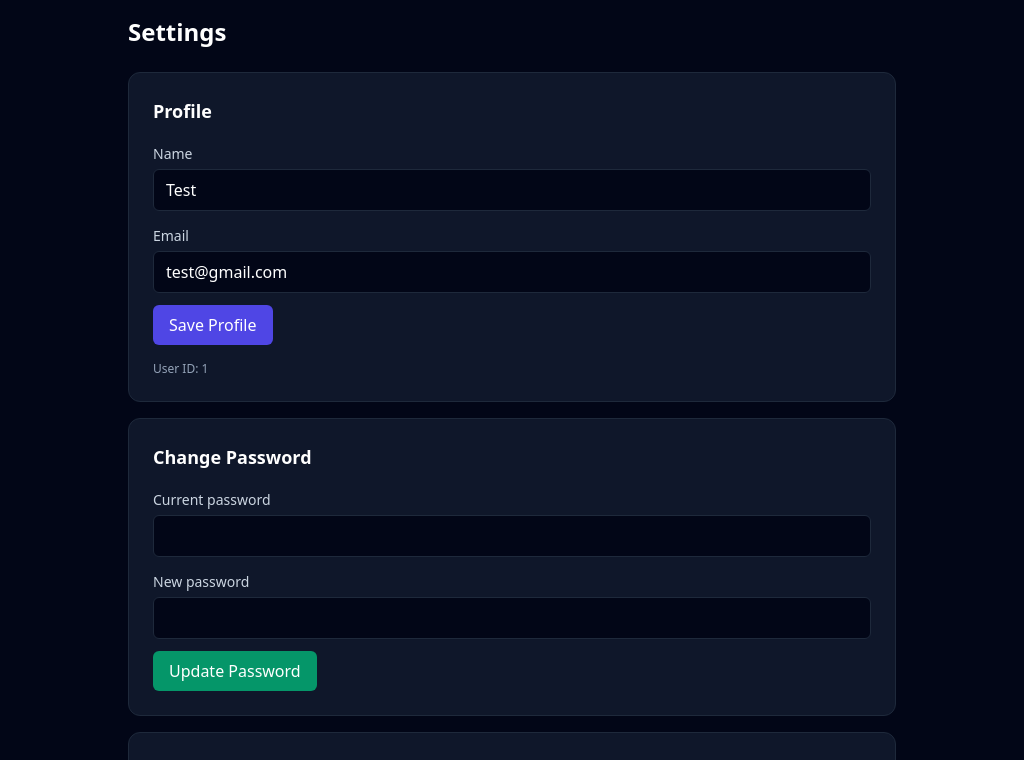
it: Settings page › TEST 13.5 — Weak new password blocked client-side
Expected: the form named "Change password form" is shown, [153, 487, 871, 691]
Type "SecureP@ss1" into the password field labelled "Current password". click: (512, 536)
box: [153, 515, 871, 557]
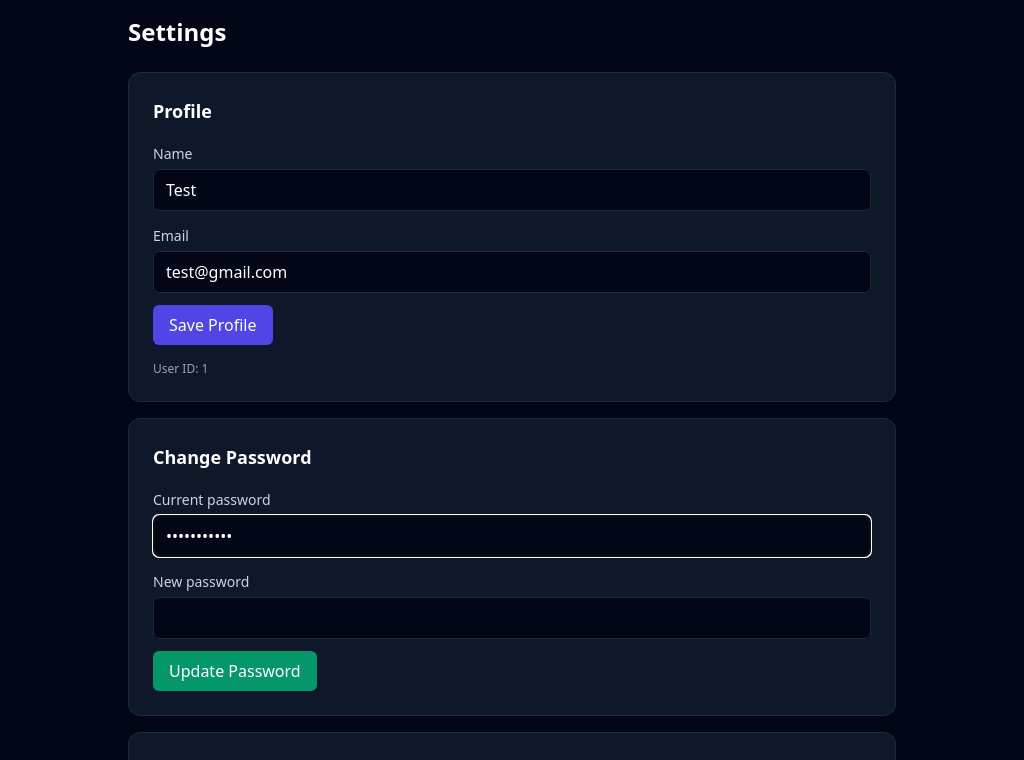
Type "weak" into the password field labelled "New password". click: (512, 618)
box: [153, 597, 871, 639]
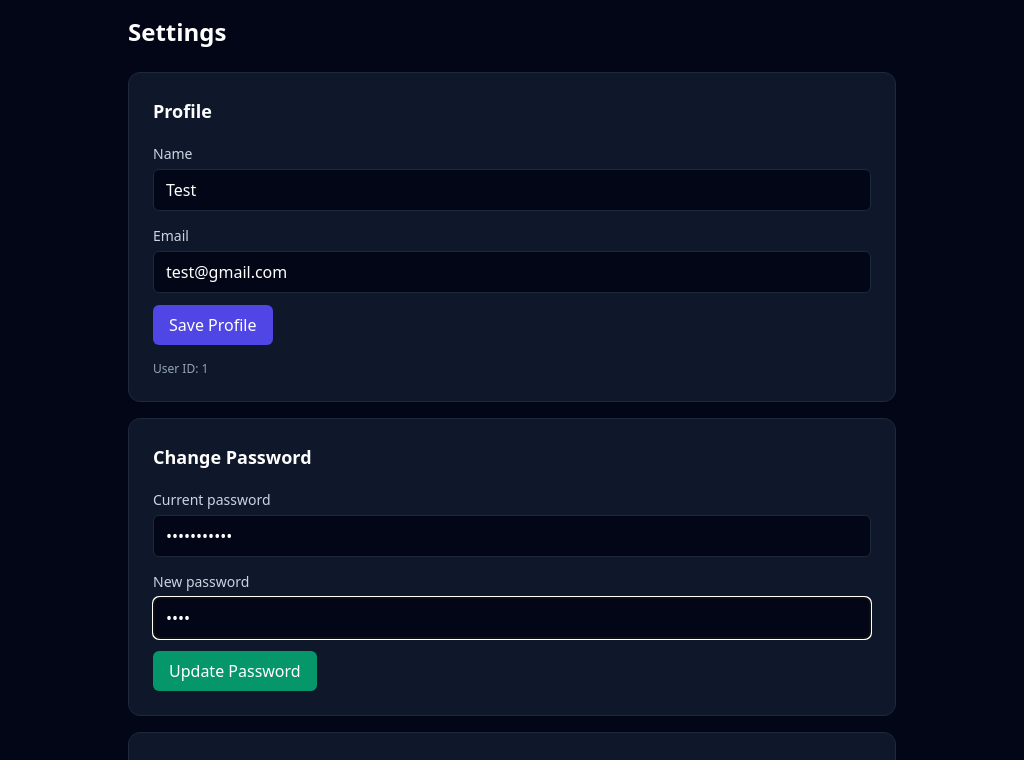
Click the button "Update Password". click: (235, 671)
box: [153, 651, 317, 691]
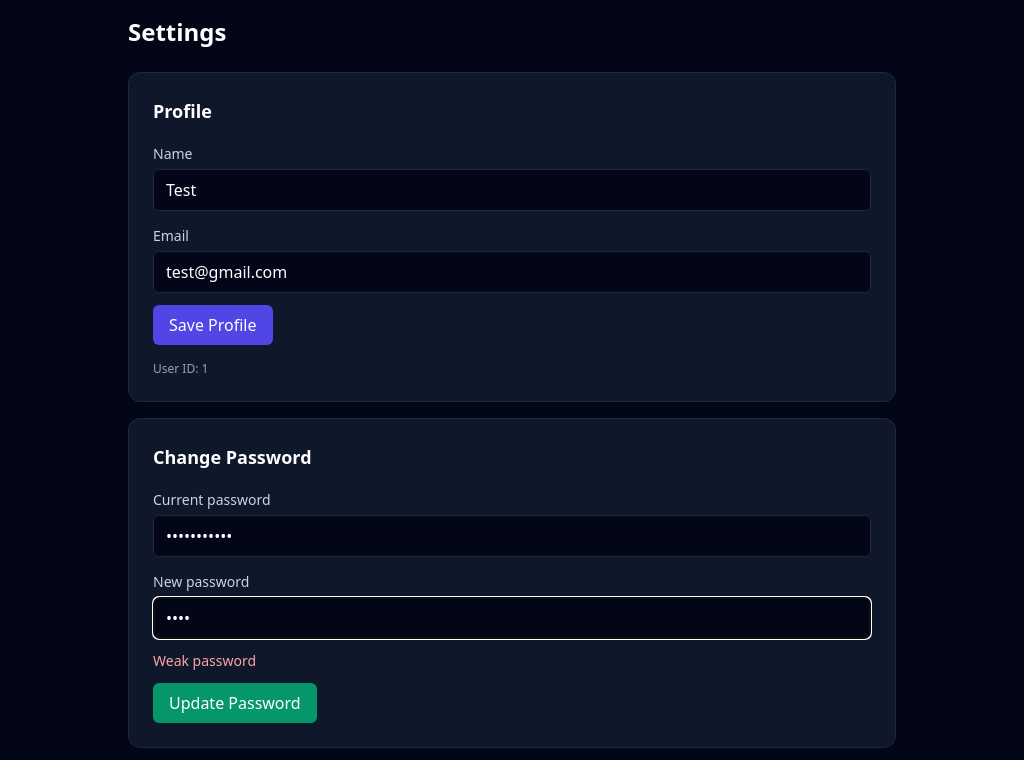
Result: the text "Weak password" is shown at [153, 651, 256, 670]
